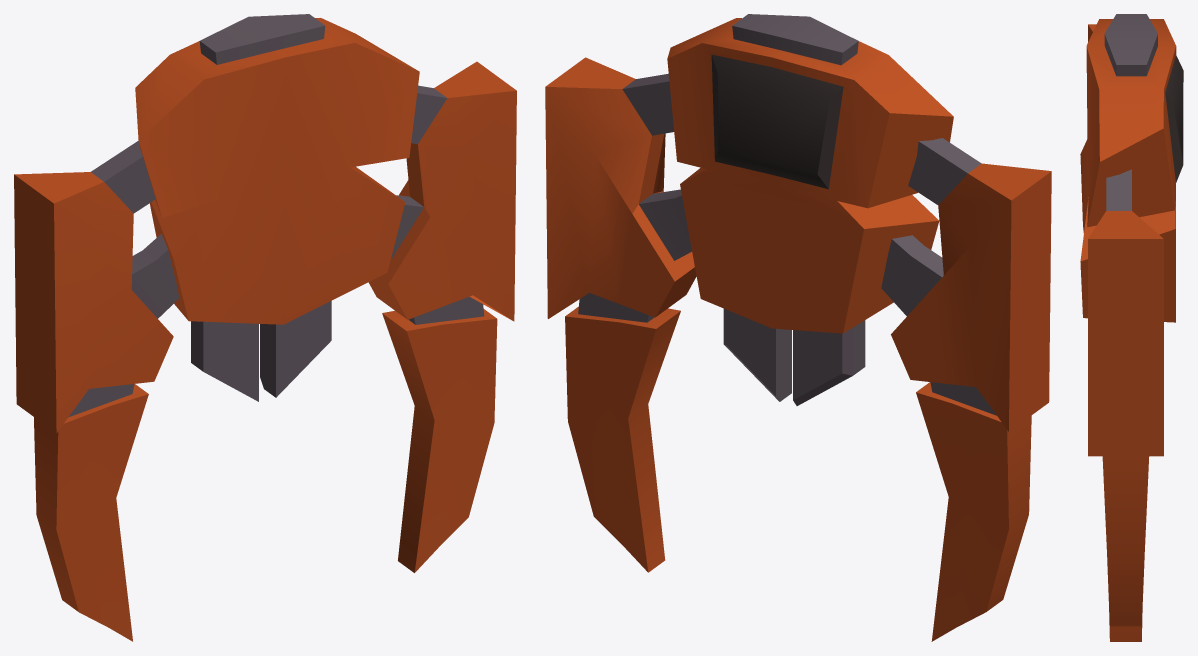
File: spaceship_enemy.fbx
3 views of the same model, side by side, from view 1: azimuth 30°, elevation 25°; view 2: azimuth 150°, elevation 25°; view 3: azimuth 270°, elevation 25° (orthographic). The views are drawn at different scales.
Visible parts, largest first — view 1: Cube.001; view 2: Cube.001; view 3: Cube.001.
Boxes of the visible parts, left/top/right/bottom form: Cube.001: left=14, top=14, right=516, bottom=641; Cube.001: left=545, top=14, right=1051, bottom=641; Cube.001: left=1080, top=14, right=1183, bottom=641.
Size of the model in its own units: 13272 by 15676 by 2695.
